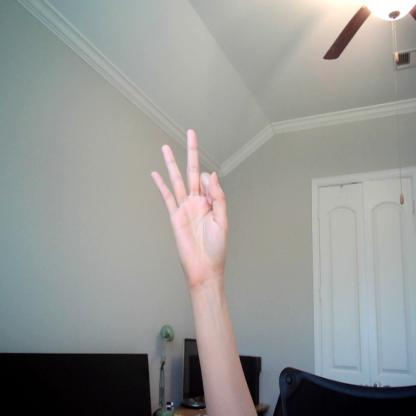nine: (146, 124, 232, 279)
